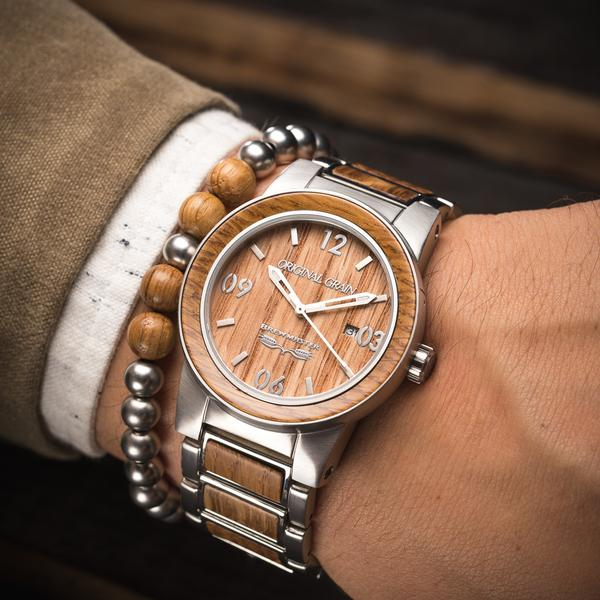clock: (198, 211, 399, 407)
